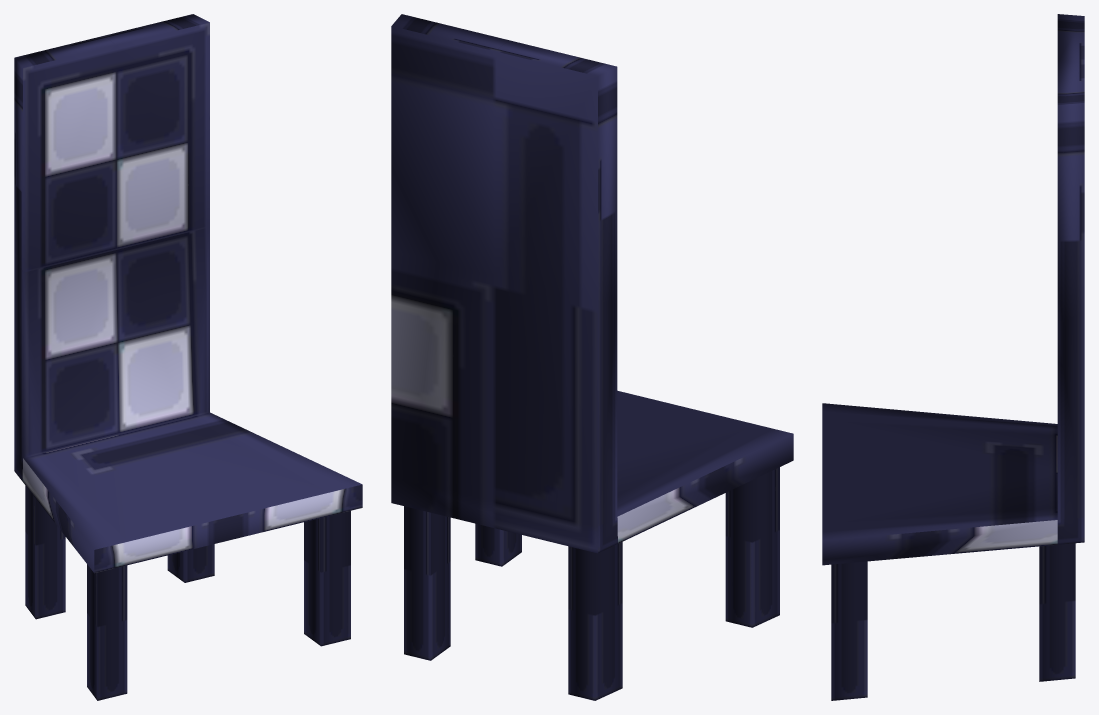
The model's file is rmk_mnc_chairS.dae.
3 renders of one model, left to right at view 1: azimuth 30°, elevation 25°; view 2: azimuth 150°, elevation 25°; view 3: azimuth 270°, elevation 25°, orthographic. The views are drawn at different scales.
Visible parts, largest first — view 1: rmk_mnc_chairS; view 2: rmk_mnc_chairS; view 3: rmk_mnc_chairS.
Boxes of the visible parts, left/top/right/bottom form: rmk_mnc_chairS: left=14, top=14, right=362, bottom=700; rmk_mnc_chairS: left=391, top=14, right=793, bottom=700; rmk_mnc_chairS: left=822, top=14, right=1084, bottom=700.
Bounding box in the file's own units: 28.8 × 56 × 23.2.
Materials: 1 (1 with a texture image).
